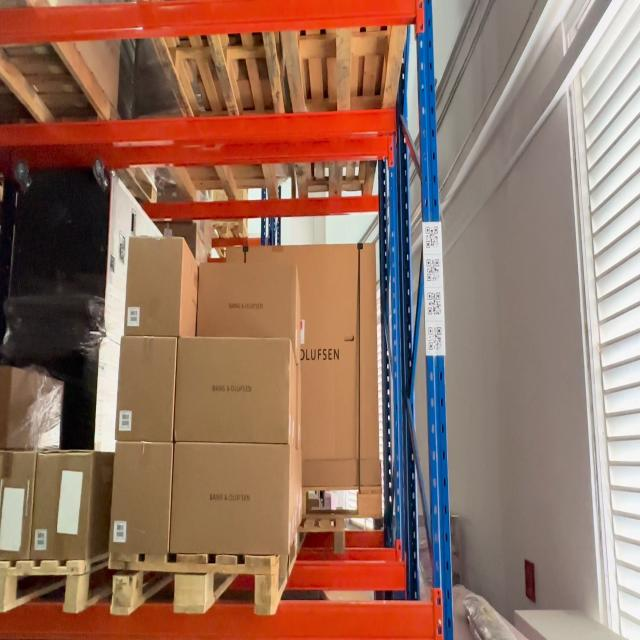box: (171, 443, 289, 558), (176, 339, 289, 445), (199, 264, 294, 339), (110, 445, 170, 552), (118, 339, 176, 441), (34, 458, 91, 559), (127, 240, 180, 334)
